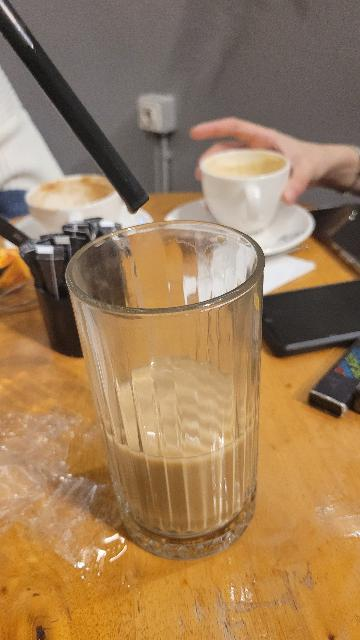Cam: (48, 222, 267, 560)
Plastik: (0, 0, 146, 208)
